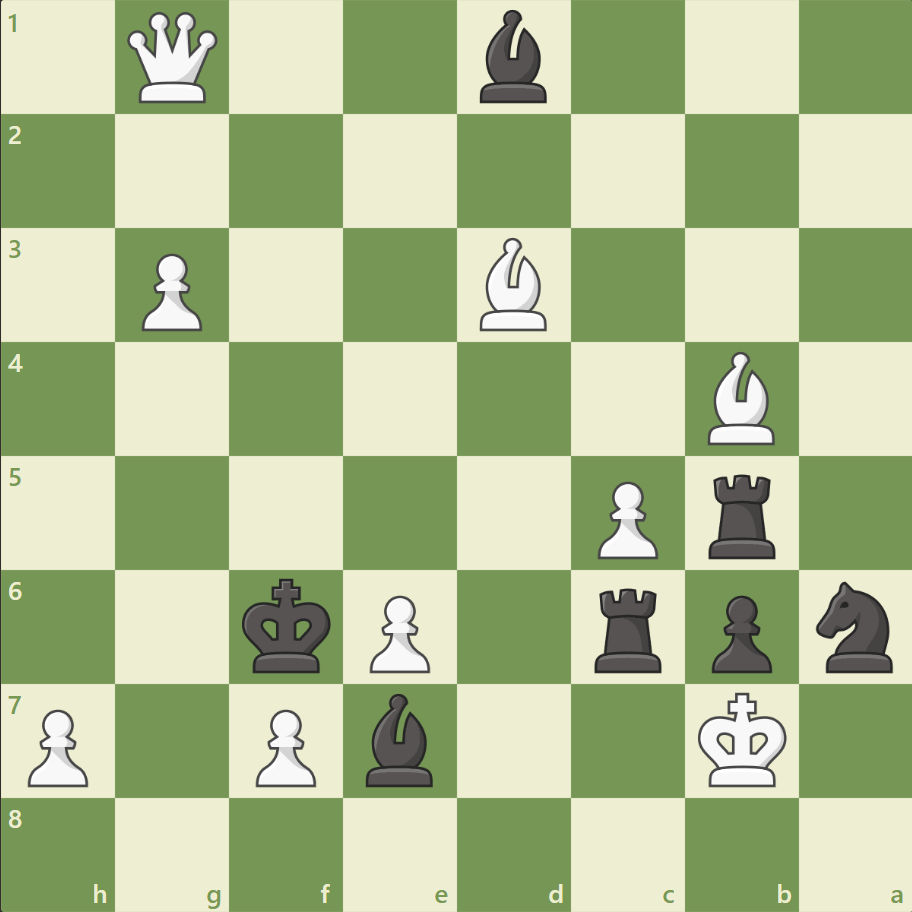B: (471, 233, 555, 336), (698, 347, 782, 449)
K: (692, 685, 792, 793)
P: (247, 700, 322, 791), (20, 700, 95, 791), (133, 246, 208, 337), (361, 586, 435, 677), (588, 473, 662, 564)
Q: (124, 9, 223, 108)
b: (358, 687, 442, 790), (471, 6, 555, 109)
k: (238, 571, 338, 679)
n: (806, 575, 903, 677)
p: (701, 586, 776, 677)
r: (587, 579, 670, 676), (700, 466, 783, 563)
